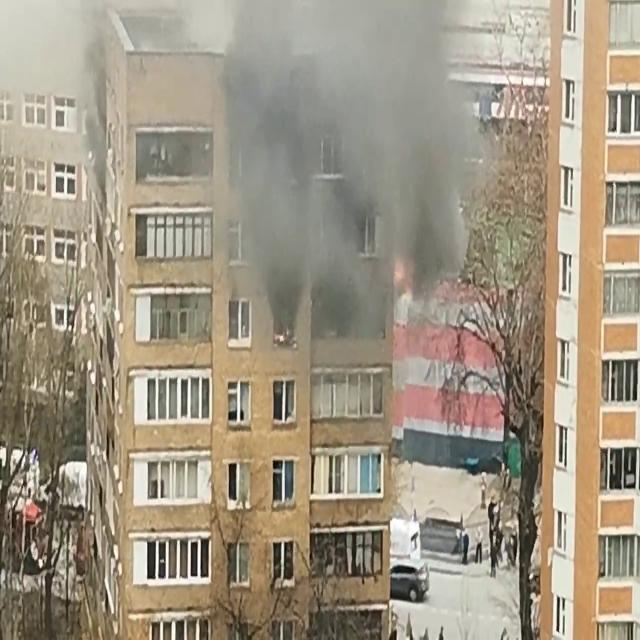Smoke: (212, 0, 486, 329), (74, 0, 116, 206)
